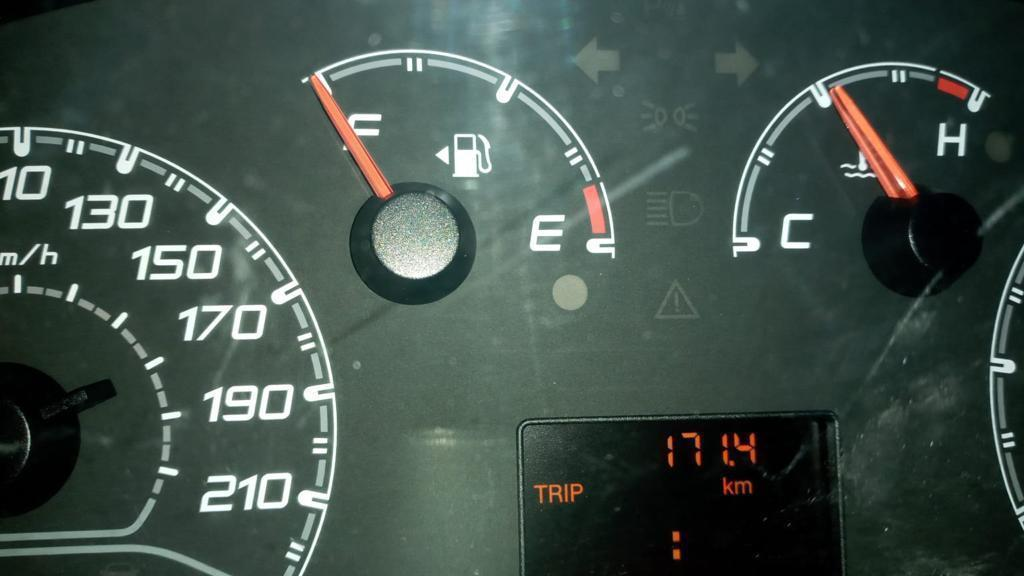,: (728, 460, 735, 467)
1: (720, 432, 728, 465), (666, 435, 673, 467)
4: (733, 432, 757, 464)
7: (680, 431, 701, 467)
X: (670, 529, 681, 560), (733, 479, 753, 495), (532, 484, 548, 504), (569, 482, 583, 503), (548, 483, 562, 503), (722, 476, 733, 495), (563, 483, 569, 503)
odometer: (514, 408, 847, 576)
